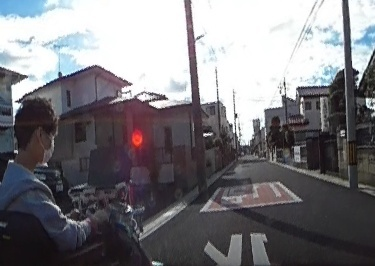person: (2, 96, 107, 244)
